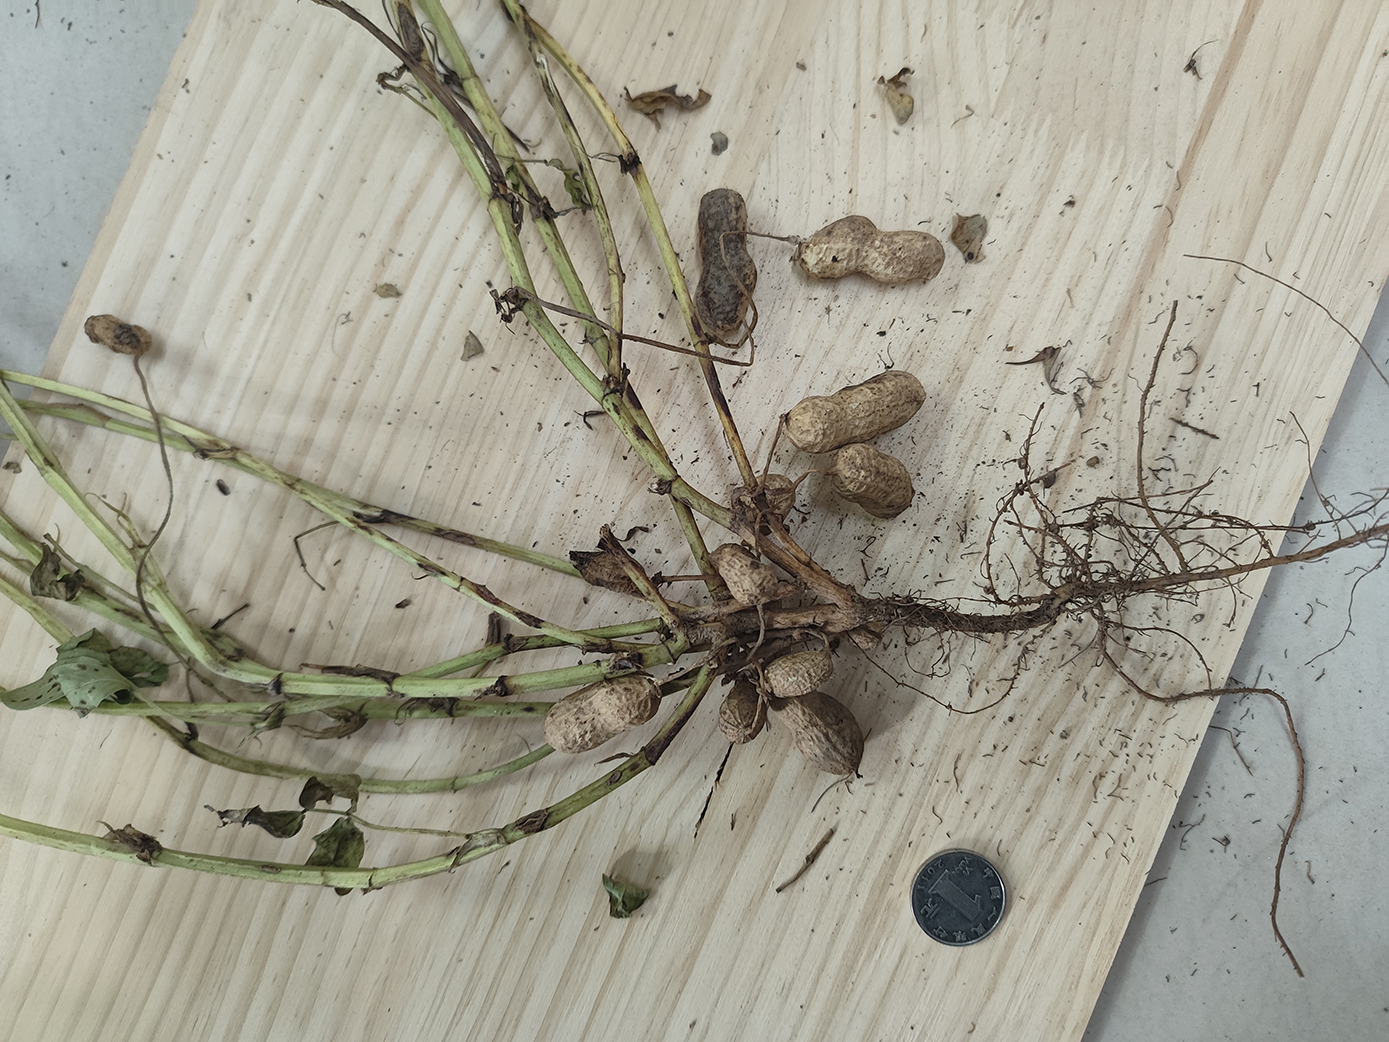h: (784, 372, 924, 451), (796, 216, 946, 288), (543, 673, 658, 753), (765, 688, 863, 774), (830, 447, 915, 519), (708, 540, 776, 605), (768, 650, 834, 702), (722, 679, 765, 746)
l: (696, 188, 759, 339), (86, 313, 153, 354)
